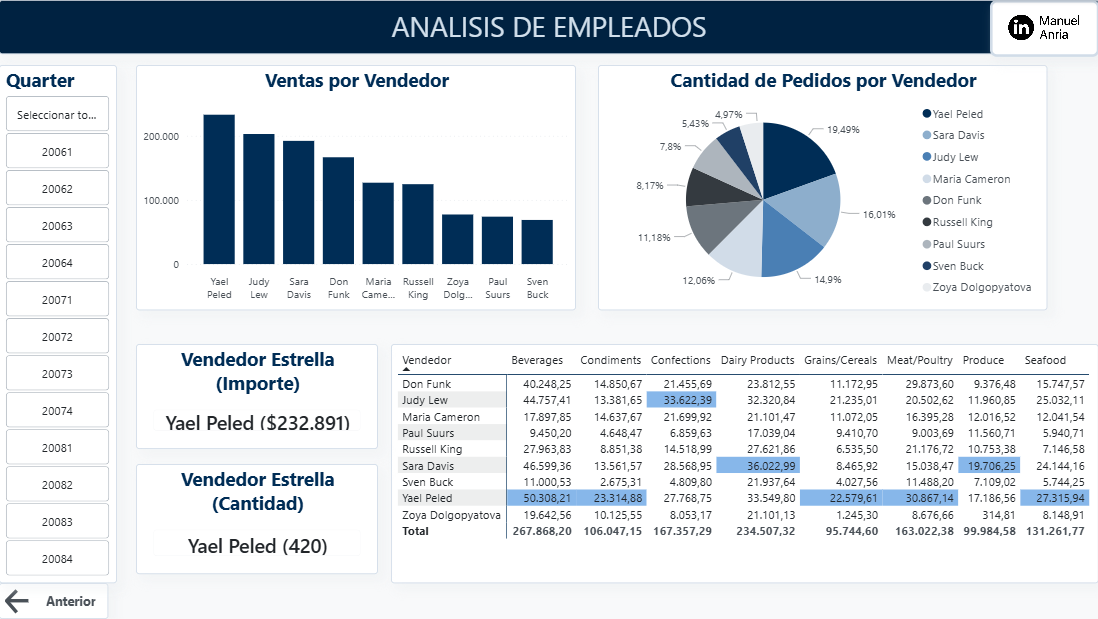

This screenshot's page, from the dashboard's own definition file:
{"tool":"powerbi","page":{"name":"RRHH","canvas":[1280,720],"ordinal":3},"visuals":[{"type":"textbox","box":[0,0,1277.7,62.7],"z":0},{"type":"actionButton","title":"Página Siguiente","box":[0,677,126.6,43],"z":1000},{"type":"columnChart","title":"Ventas por Vendedor","fields":{"Category":["northwind view_employee_performance.Vendedor"],"Y":["Sum(northwind view_hechos_ventas.Total_Neto)"]},"box":[158.8,75.4,511.3,285.2],"z":2000},{"type":"pivotTable","fields":{"Rows":["northwind view_employee_performance.Vendedor"],"Columns":["northwind view_hechos_ventas.Categoria"],"Values":["Sum(northwind view_hechos_ventas.Total_Neto)"]},"box":[455.3,399.6,822.4,277.6],"z":3000},{"type":"pieChart","title":"Cantidad de Pedidos por Vendedor","fields":{"Category":["northwind view_employee_performance.Vendedor"],"Y":["CountNonNull(northwind view_hechos_ventas.orderId)"]},"box":[695.7,75.4,521.7,285.2],"z":4000},{"type":"advancedSlicerVisual","title":"Quarter","fields":{"Values":["Calendario.Trimestre y Año Num"]},"box":[0,75.4,136.8,601.7],"z":5000},{"type":"cardVisual","title":"Vendedor Estrella (Importe)","fields":{"Data":["northwind view_hechos_ventas.Vendedor del Q"]},"box":[159.1,399.6,281.1,122],"z":6000},{"type":"cardVisual","title":"Vendedor Estrella (Cantidad)","fields":{"Data":["northwind view_hechos_ventas.Vendedor Estrella Q"]},"box":[159.1,538.9,281.1,127.8],"z":7000},{"type":"image","box":[1151.1,0,126.6,66.2],"z":8000}]}

Visuals, with their boxes in screenshot pixels (x1, y1, x2, y2), scaled from the page's 1280x720 canvas onto the 1098x619 screenshot:
textbox: bbox=[0, 0, 1096, 54]
"Página Siguiente" actionButton: bbox=[0, 582, 109, 618]
"Ventas por Vendedor" columnChart: bbox=[136, 65, 575, 310]
pivotTable - northwind view_employee_performance.Vendedor x northwind view_hechos_ventas.Categoria: bbox=[391, 344, 1096, 582]
"Cantidad de Pedidos por Vendedor" pieChart: bbox=[597, 65, 1044, 310]
"Quarter" advancedSlicerVisual: bbox=[0, 65, 117, 582]
"Vendedor Estrella (Importe)" cardVisual: bbox=[136, 344, 378, 448]
"Vendedor Estrella (Cantidad)" cardVisual: bbox=[136, 463, 378, 573]
image: bbox=[987, 0, 1096, 57]
